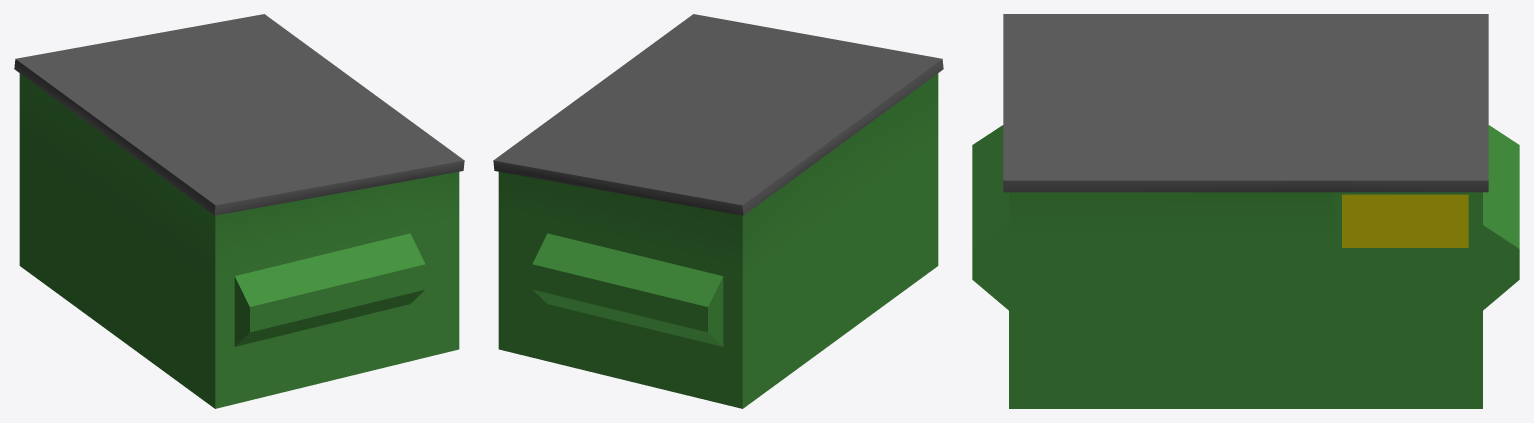
The model's file is dumpster.fbx.
3 views of the same model, side by side, from view 1: azimuth 30°, elevation 25°; view 2: azimuth 150°, elevation 25°; view 3: azimuth 270°, elevation 25° (orthographic). The views are drawn at different scales.
Parts seen in each view (by area): view 1: pCube1; view 2: pCube1; view 3: pCube1.
Part boxes in pixels (bbox=[...]): pCube1: bbox=[14, 14, 464, 408]; pCube1: bbox=[493, 14, 943, 408]; pCube1: bbox=[972, 14, 1519, 408].
Size of the model in its own units: 42.52 by 33.43 by 66.46.
